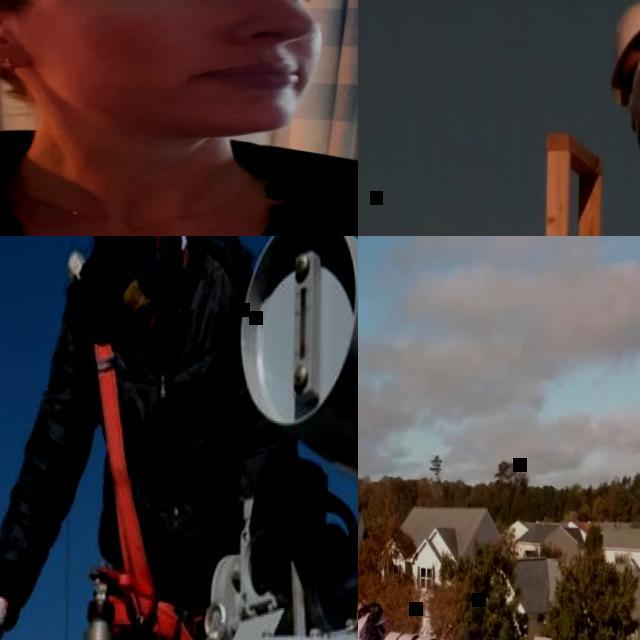helmet: (607, 0, 640, 106)
